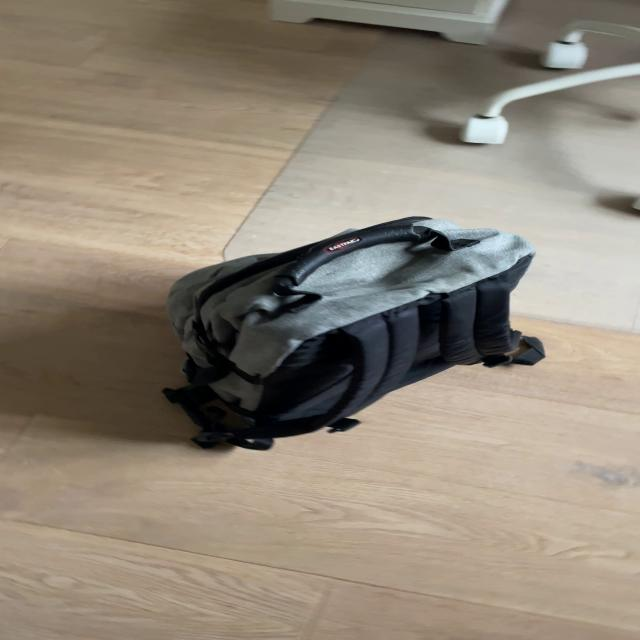backpack: (150, 206, 558, 454)
